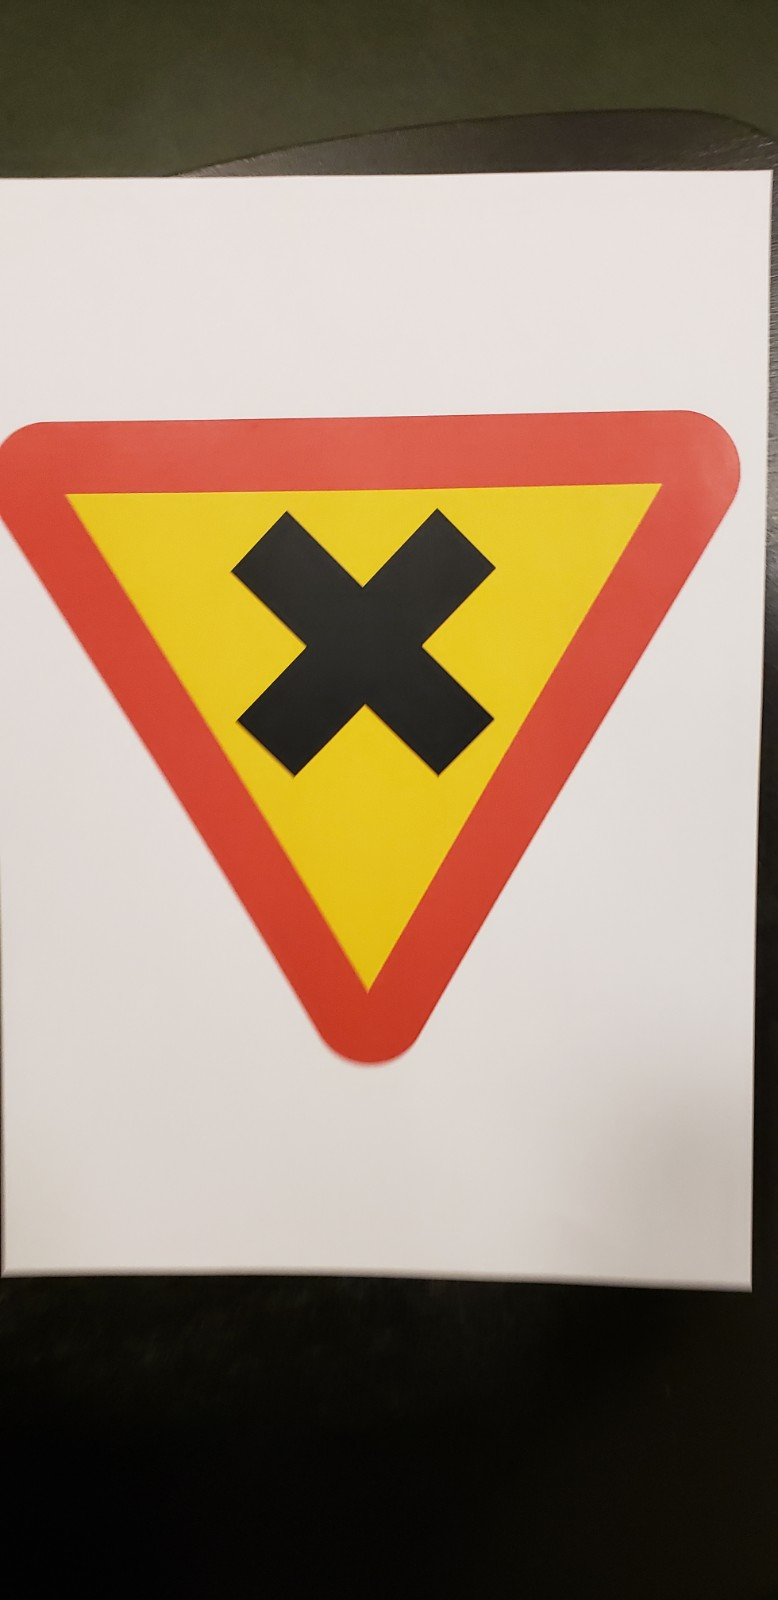junction: (8, 377, 757, 1165)
